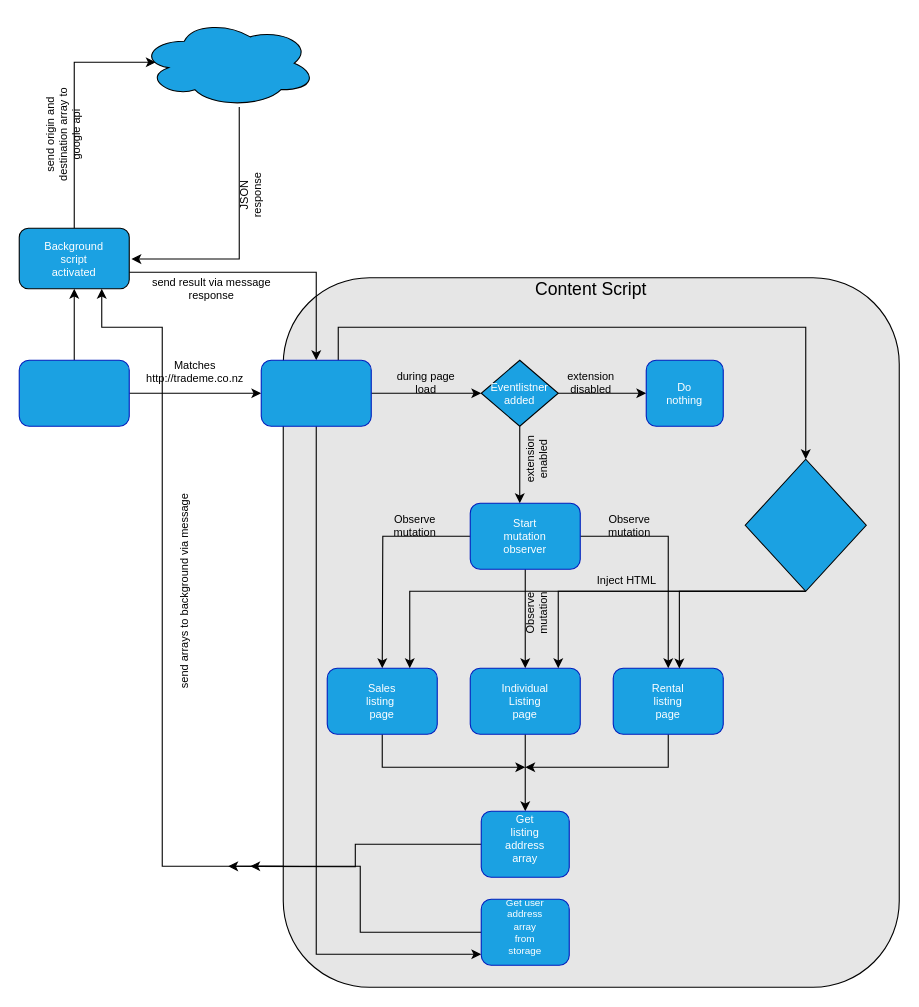
The diagram is 919 pixels wide and 1007 high, and some of its shapes have lost their labels. The shapes that lost their labels are listed below. From the top down, each one's box as (x1, y1, x2, y2) in pixels, then its label:
(139, 18, 316, 107): Google places API
(18, 359, 129, 426): Startup
(260, 359, 371, 426): Contentscript activated
(744, 458, 866, 591): Build information chips array from response
